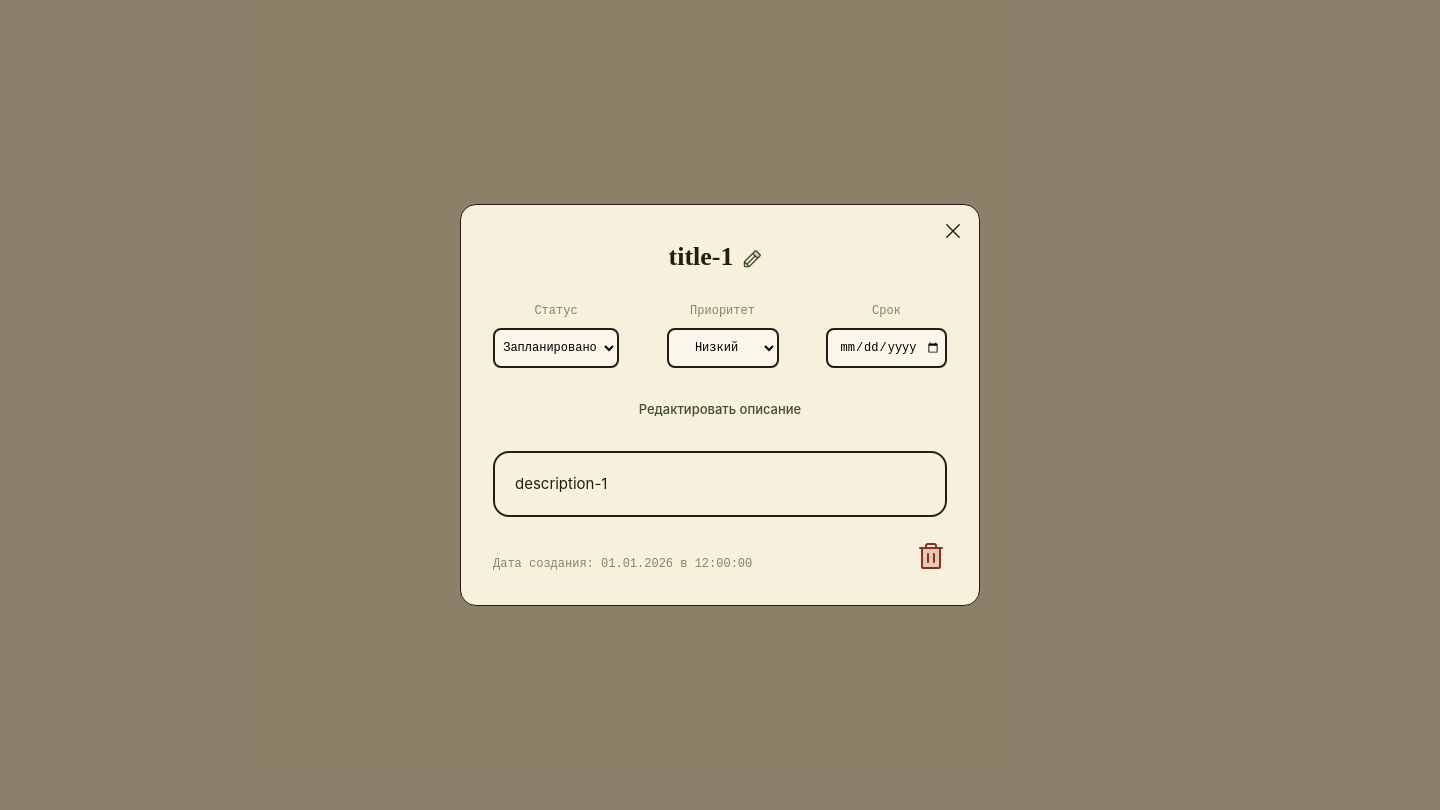
Test: TaskDetailsModal › restores original title when title editing is canceled
Expected: the heading "title-1" is shown, left=668, top=240, right=772, bottom=278
Click the button named "Редактировать название": (752, 259) left=734, top=240, right=772, bottom=278
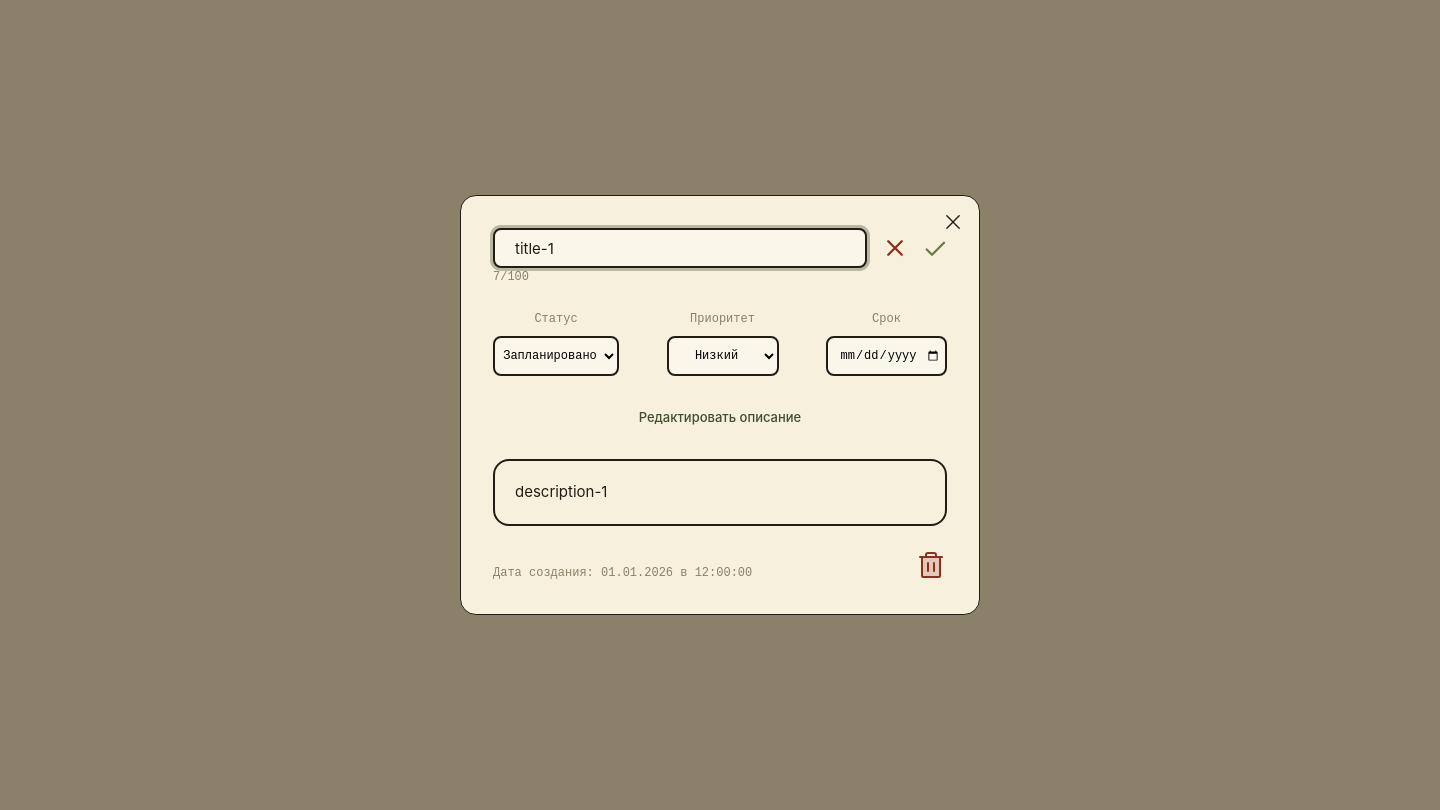
Expected: the field named "Название задачи" holds "title-1"
Replace the text in the field named "Название задачи" with "new title": (680, 248) left=493, top=228, right=867, bottom=268
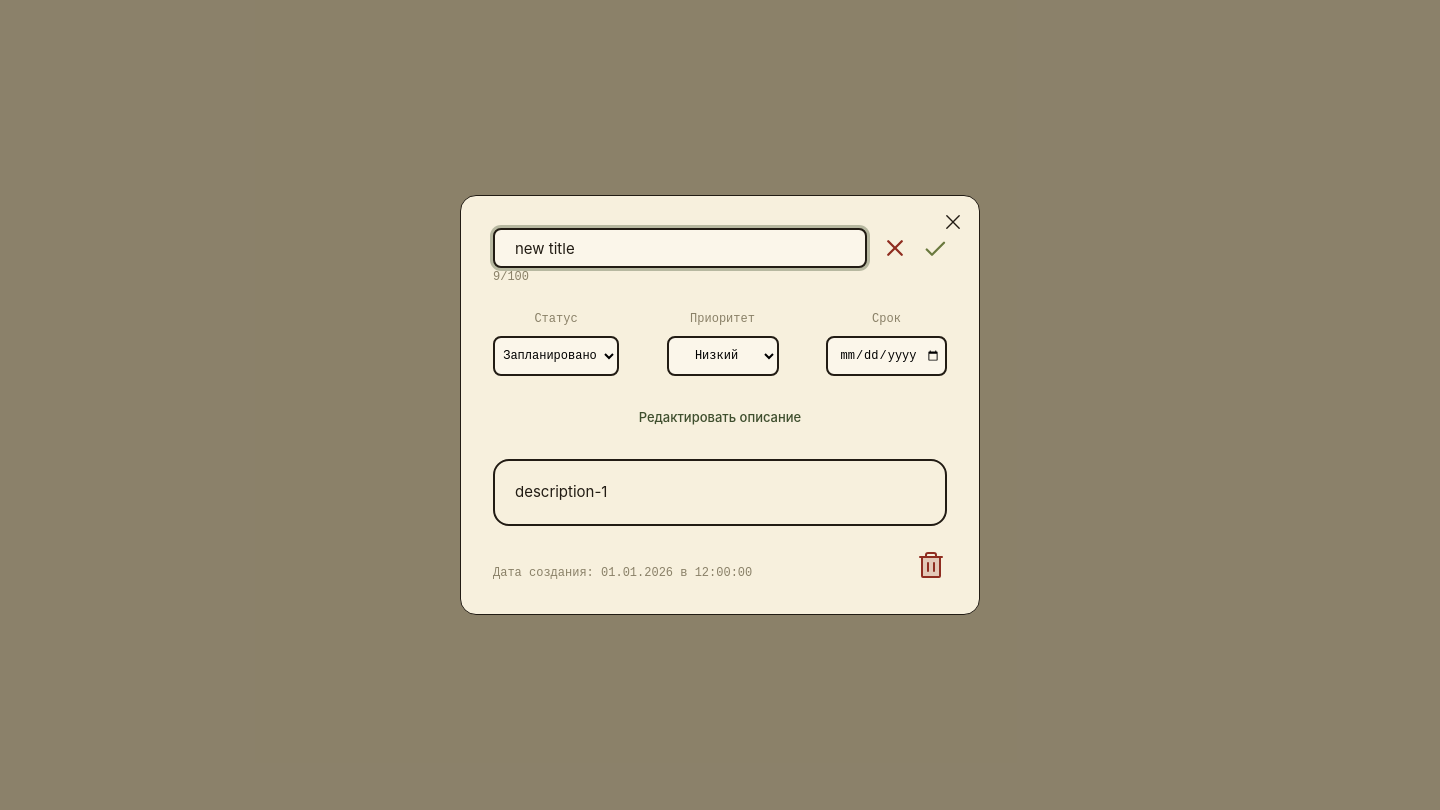
Click the button named "Отменить редактирование названия": (895, 248) left=883, top=236, right=907, bottom=260
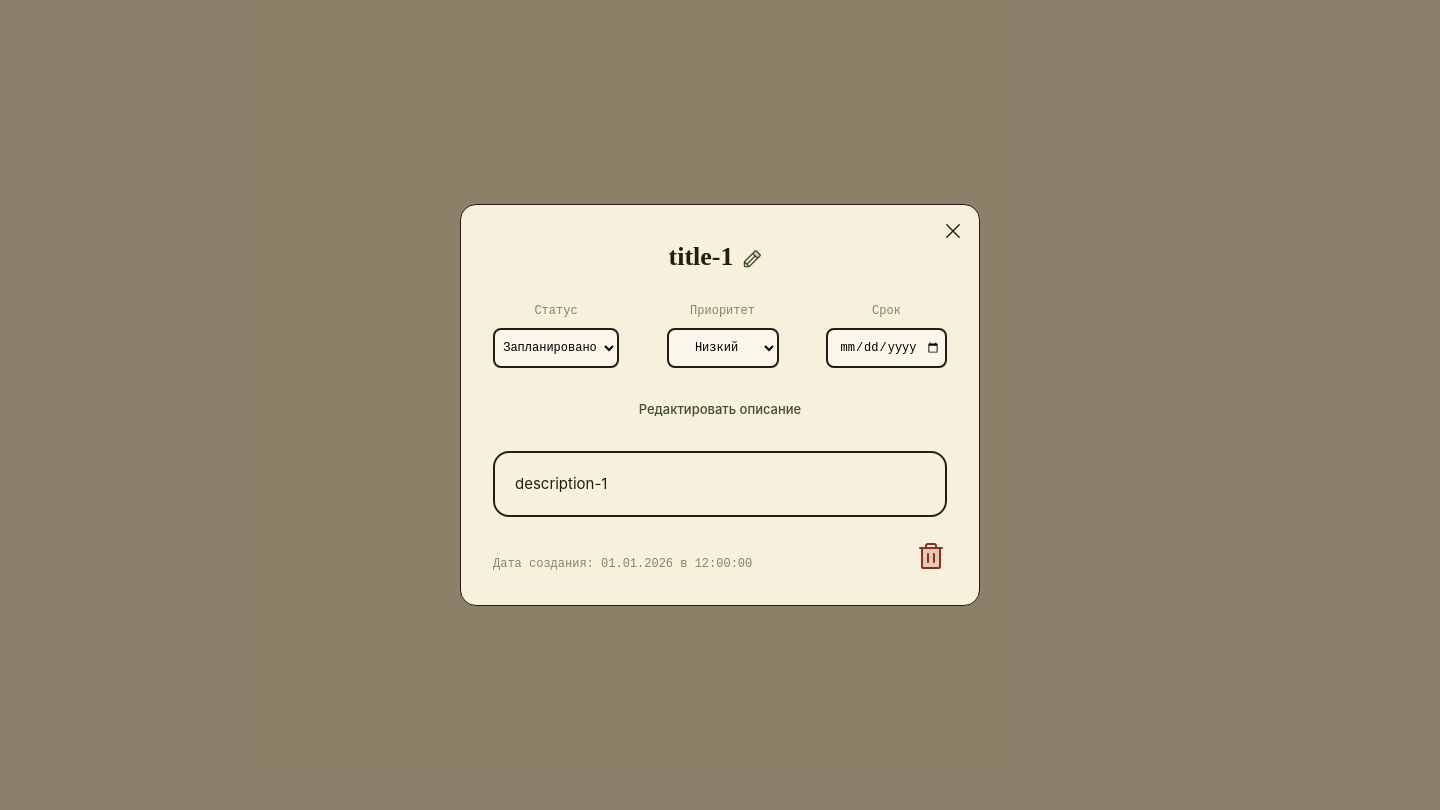
Expected: the heading "title-1" is shown, left=668, top=240, right=772, bottom=278
Click the button named "Редактировать название": (752, 259) left=734, top=240, right=772, bottom=278
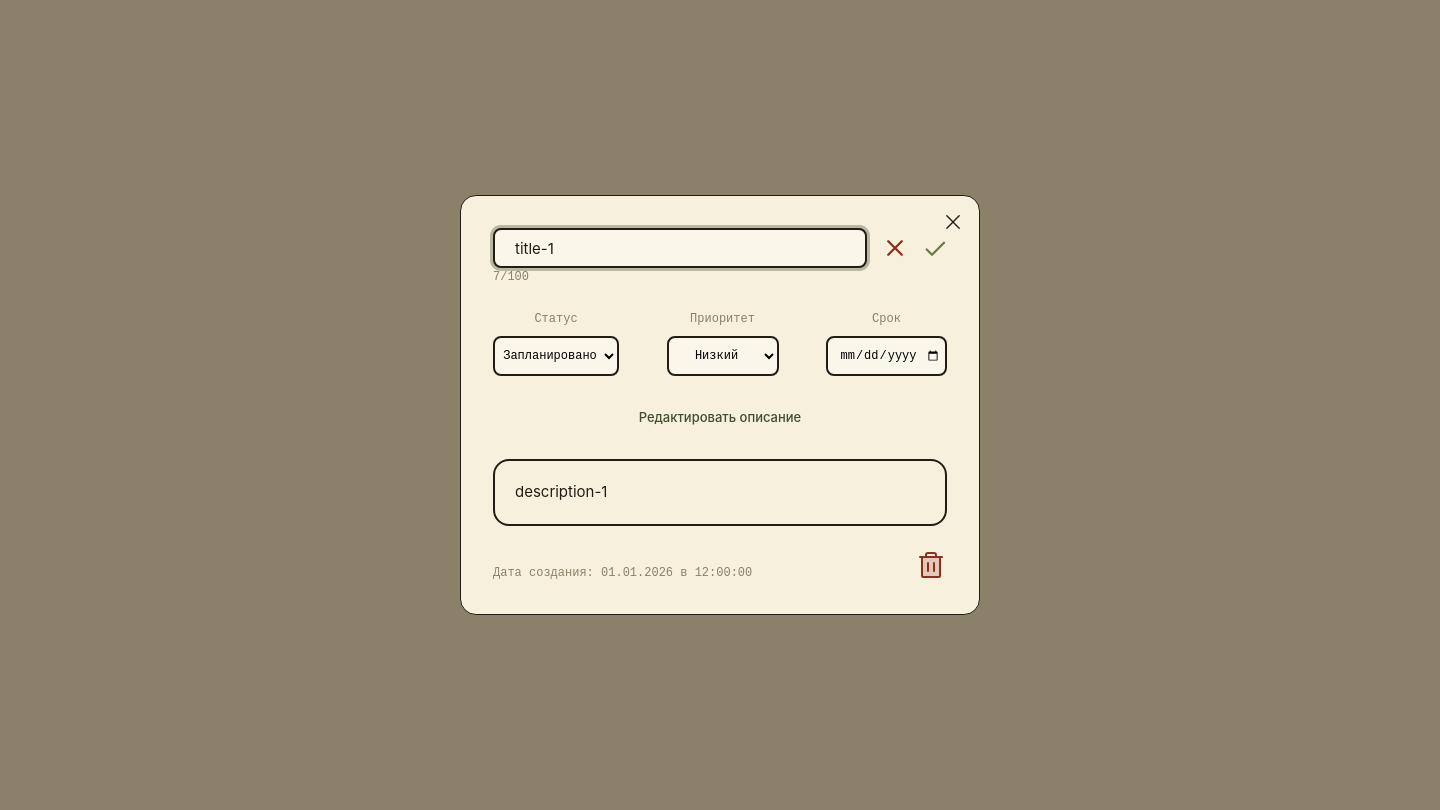
Expected: the field named "Название задачи" holds "title-1", left=493, top=228, right=867, bottom=268
